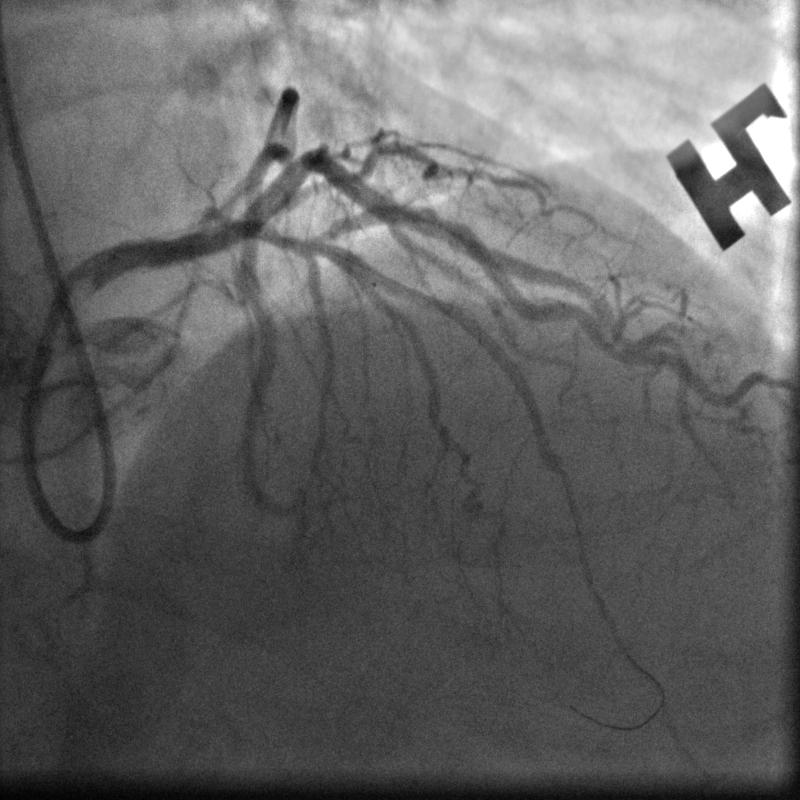Stenosis: (416, 200, 462, 242)
